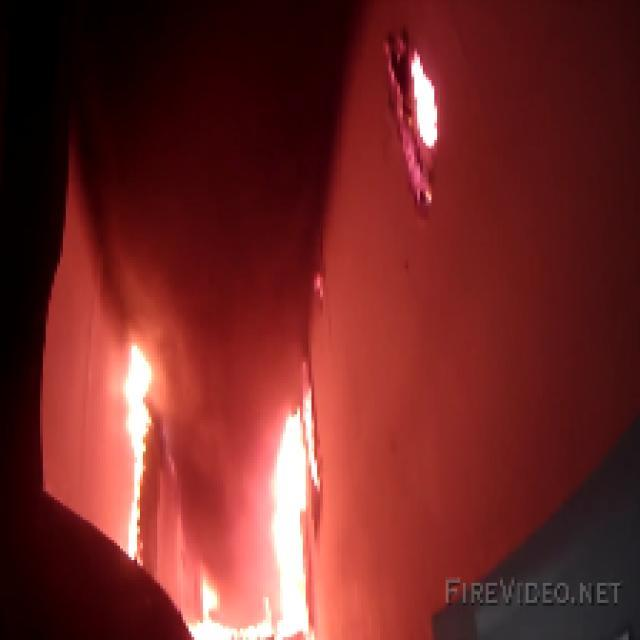Fire: (120, 348, 157, 546), (186, 588, 311, 638), (277, 417, 312, 580)
Smoke: (123, 106, 306, 312), (186, 331, 266, 526)
